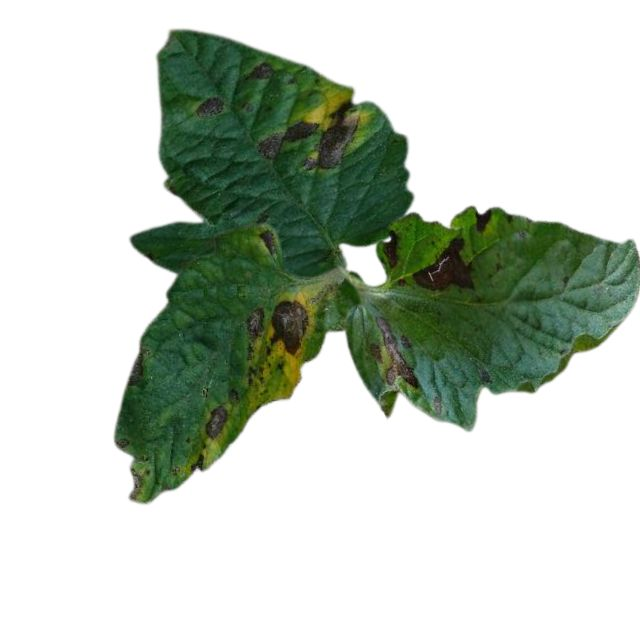Early_blight: (302, 101, 363, 172), (410, 236, 477, 293), (369, 317, 420, 389), (252, 118, 319, 157), (269, 297, 310, 357), (127, 344, 149, 387), (379, 230, 402, 268), (204, 406, 229, 437), (257, 227, 279, 262), (194, 95, 224, 120), (126, 468, 148, 502), (244, 305, 267, 337), (243, 58, 273, 81), (471, 206, 494, 234), (189, 452, 206, 472)
